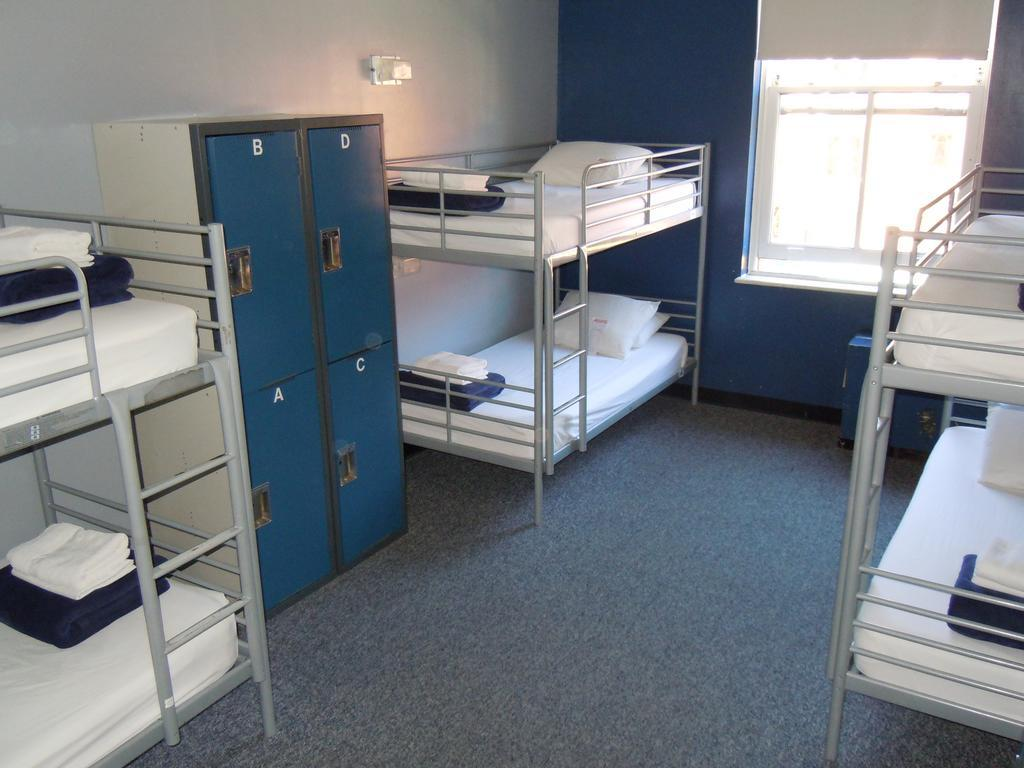bed: (392, 77, 730, 278)
